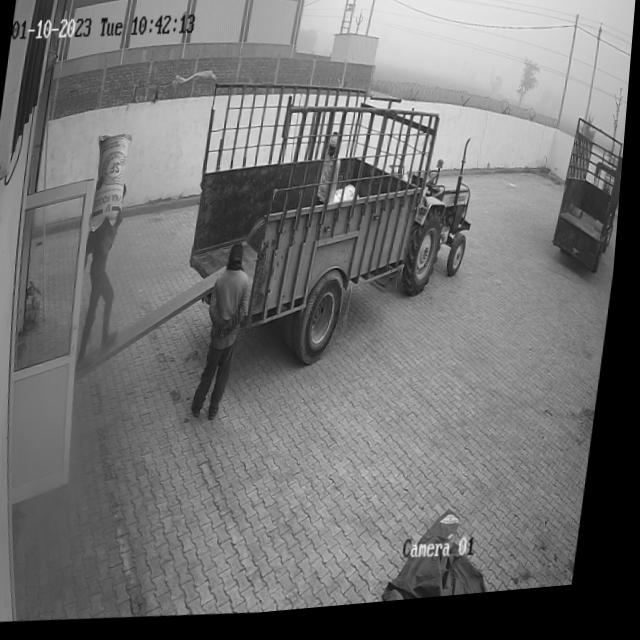sack: (90, 133, 135, 234)
